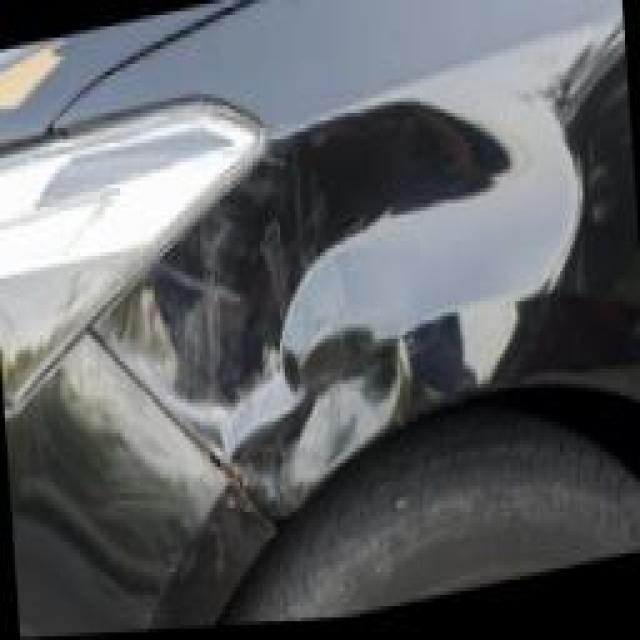Bumper: (110, 527, 208, 634)
Fender: (185, 60, 572, 495)
